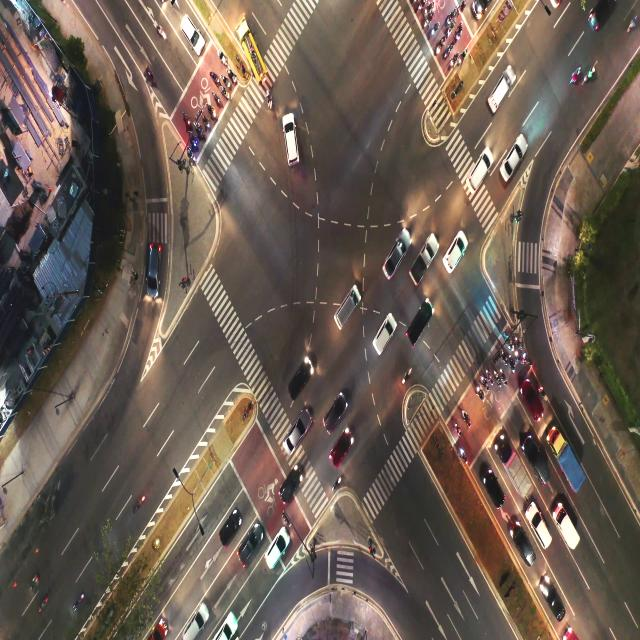bus: (243, 44, 260, 70)
car: (178, 17, 205, 52), (286, 411, 308, 453), (284, 111, 301, 161), (147, 242, 161, 302), (413, 304, 433, 340), (292, 361, 312, 396), (493, 72, 512, 108), (505, 138, 524, 172), (383, 242, 404, 272), (268, 533, 285, 570), (243, 528, 261, 562), (338, 290, 354, 328), (544, 587, 563, 616), (185, 610, 203, 640), (328, 396, 344, 429), (487, 474, 500, 512), (472, 158, 486, 191), (378, 322, 395, 349), (334, 438, 351, 463), (285, 473, 299, 502), (450, 238, 464, 266), (223, 516, 237, 542), (535, 516, 546, 548), (593, 4, 610, 24), (526, 388, 539, 414), (517, 536, 530, 560), (219, 620, 235, 638), (533, 448, 545, 470)
motorcycle: (402, 366, 413, 385), (585, 66, 594, 84), (195, 123, 204, 140), (627, 18, 636, 35), (145, 70, 155, 84), (570, 68, 580, 82), (266, 87, 272, 110), (449, 56, 457, 72), (203, 115, 210, 132), (460, 51, 468, 65), (446, 23, 454, 37), (187, 148, 194, 163), (220, 50, 227, 65), (459, 0, 467, 13), (417, 0, 425, 13), (476, 385, 482, 402), (157, 26, 164, 40), (523, 352, 529, 368), (436, 40, 444, 52), (447, 11, 455, 23), (462, 413, 469, 426), (431, 24, 438, 37), (443, 49, 451, 60), (541, 384, 546, 401), (334, 477, 341, 489), (185, 115, 190, 131), (220, 88, 228, 98), (423, 18, 431, 28), (210, 107, 216, 120), (214, 94, 220, 107), (212, 71, 218, 84), (456, 28, 462, 41), (425, 4, 432, 15), (462, 449, 467, 464), (502, 369, 507, 384), (190, 135, 196, 147), (452, 425, 460, 434), (501, 348, 505, 366), (514, 337, 520, 349), (229, 70, 235, 81), (487, 370, 492, 382), (507, 338, 512, 350), (510, 358, 514, 372), (516, 350, 520, 362), (224, 78, 228, 89), (483, 380, 487, 391), (496, 371, 499, 385)
truck: (507, 454, 525, 493), (415, 245, 431, 284), (560, 440, 573, 478), (562, 511, 574, 549)
